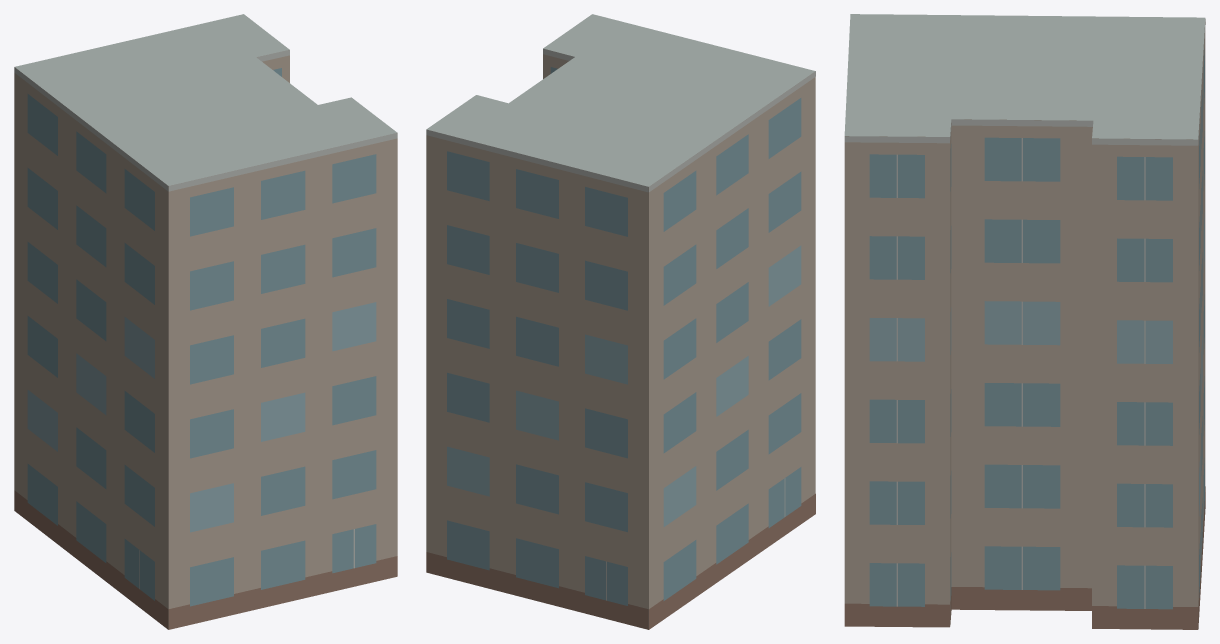
Rendered from survey-upis-32968041.glb.
3 views of the same model, side by side, from view 1: azimuth 30°, elevation 25°; view 2: azimuth 150°, elevation 25°; view 3: azimuth 270°, elevation 25° (orthographic). The views are drawn at different scales.
Parts seen in each view (by area): view 1: survey-upis-32968041.tmp; view 2: survey-upis-32968041.tmp; view 3: survey-upis-32968041.tmp.
Part boxes in pixels (left/top/right/bottom): survey-upis-32968041.tmp: left=14, top=14, right=397, bottom=629; survey-upis-32968041.tmp: left=426, top=14, right=815, bottom=629; survey-upis-32968041.tmp: left=844, top=14, right=1205, bottom=629.
Bounding box in the file's own units: 10.49 × 19.1 × 12.75.
